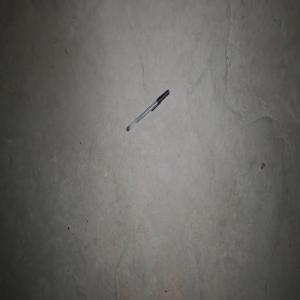Pen: (126, 88, 169, 131)
